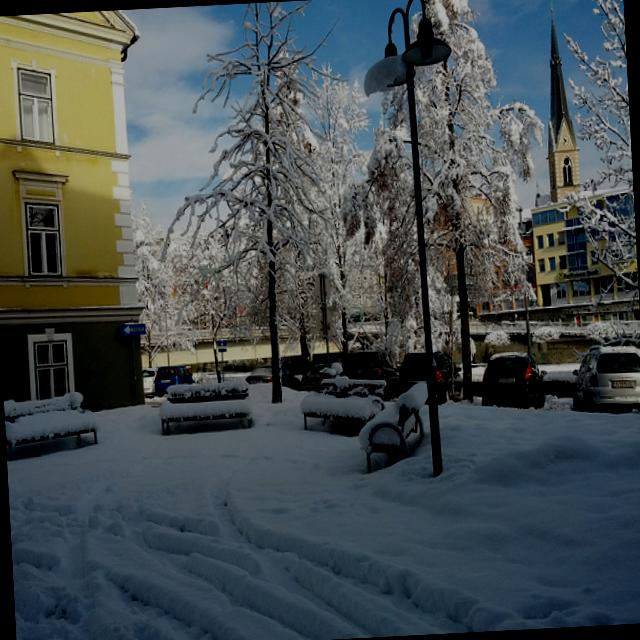Vehicle: (573, 338, 640, 416), (478, 349, 546, 411), (397, 350, 462, 407), (246, 364, 302, 394), (338, 347, 384, 381), (155, 364, 197, 396), (300, 361, 344, 384), (142, 367, 159, 398)
